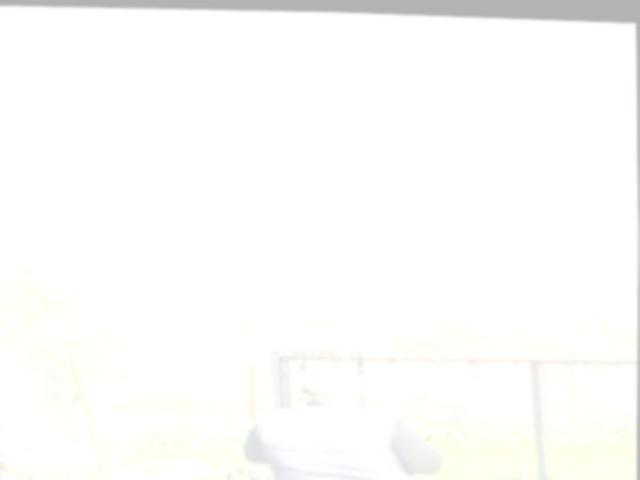iha: (419, 12, 521, 25)
